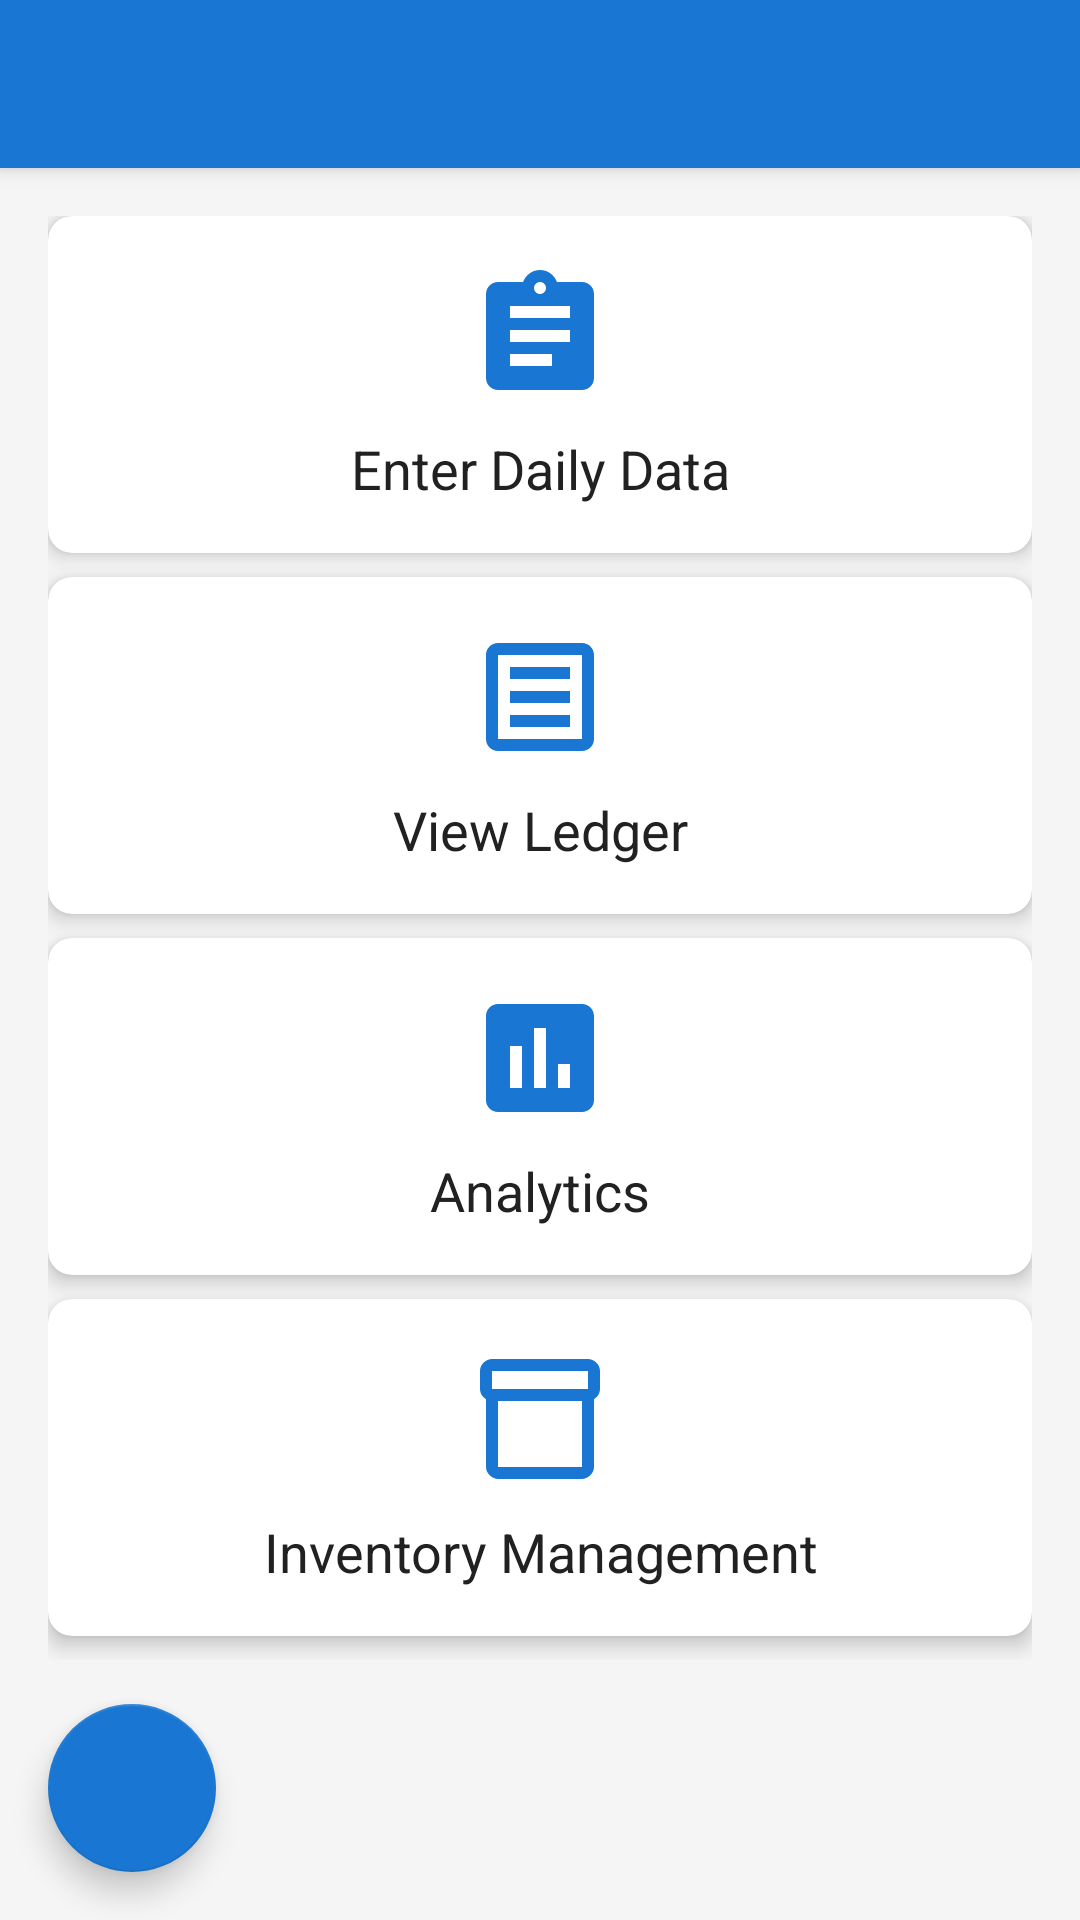

Icons on this 1080 x 1920 Android screen, each with the point to tap as (x,y):
data entry: (540,330)
